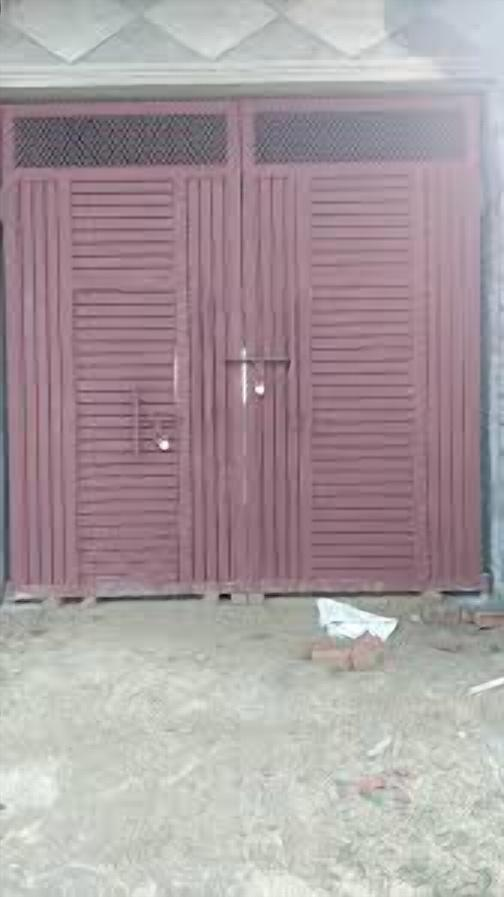Gate: (0, 94, 504, 601)
